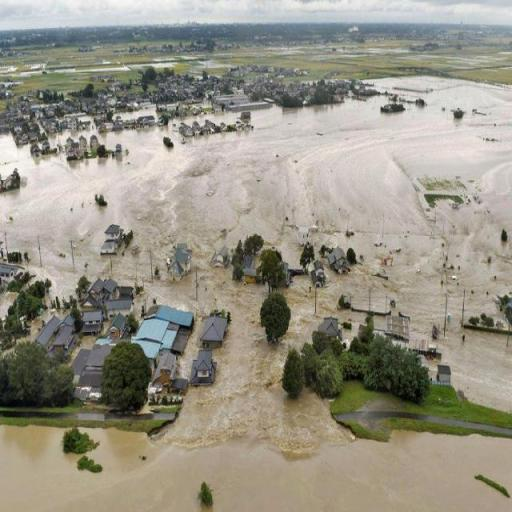flood: (0, 76, 512, 410), (0, 270, 512, 512)
house: (137, 304, 194, 352), (72, 344, 102, 404), (34, 316, 74, 359), (198, 311, 230, 345), (96, 220, 126, 256), (192, 349, 216, 385), (154, 353, 178, 384), (166, 252, 189, 281), (104, 297, 134, 319), (0, 166, 21, 192), (0, 262, 23, 284), (108, 314, 128, 339), (331, 248, 350, 273), (90, 278, 116, 296), (310, 259, 326, 286), (84, 310, 102, 332), (322, 316, 340, 335), (81, 295, 100, 311), (64, 138, 80, 156), (180, 123, 194, 138), (46, 119, 60, 133), (138, 115, 156, 125), (78, 135, 89, 151), (66, 118, 80, 130), (90, 134, 99, 148), (192, 122, 202, 134)
